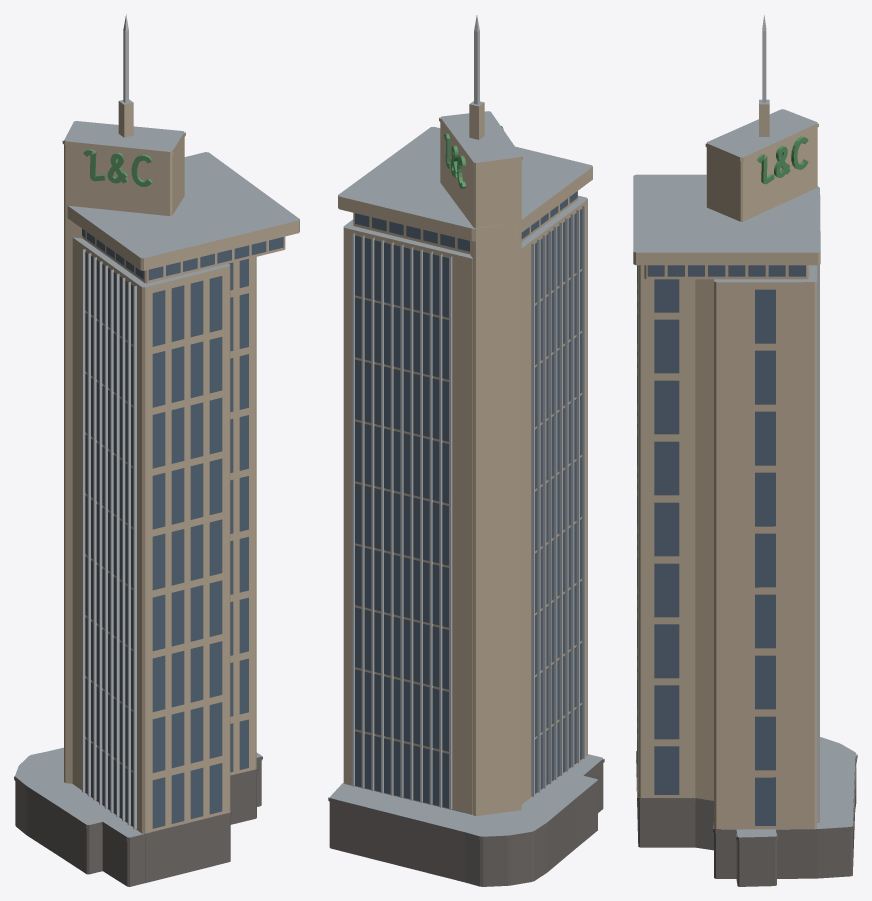
File: nash-life-and-casualty-tower.glb
3 renders of one model, left to right at view 1: azimuth 30°, elevation 25°; view 2: azimuth 150°, elevation 25°; view 3: azimuth 270°, elevation 25°, orthographic.
Parts seen in each view (by area): view 1: Life & Casualty Tower; view 2: Life & Casualty Tower; view 3: Life & Casualty Tower.
Boxes of the visible parts, x1,y1,x2,y2 form: Life & Casualty Tower: (14,14,299,886); Life & Casualty Tower: (328,15,604,886); Life & Casualty Tower: (633,15,857,886).
Bounding box in the file's own units: 39.97 × 148 × 36.98.
